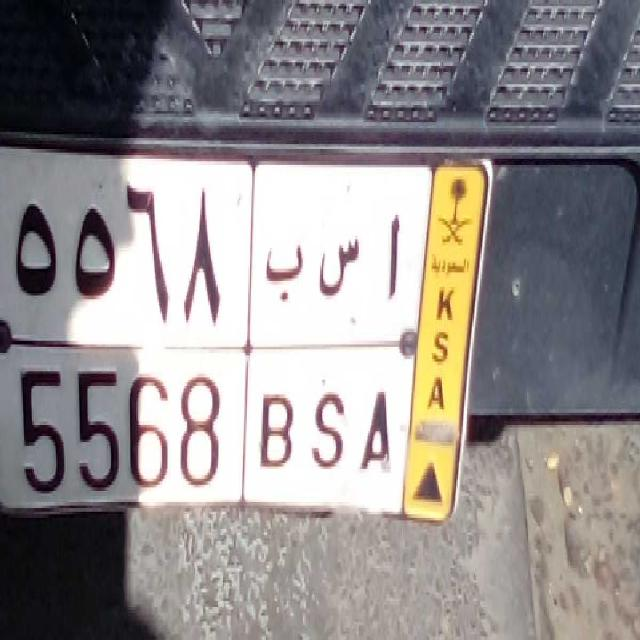license_plate: (8, 344, 402, 529)
